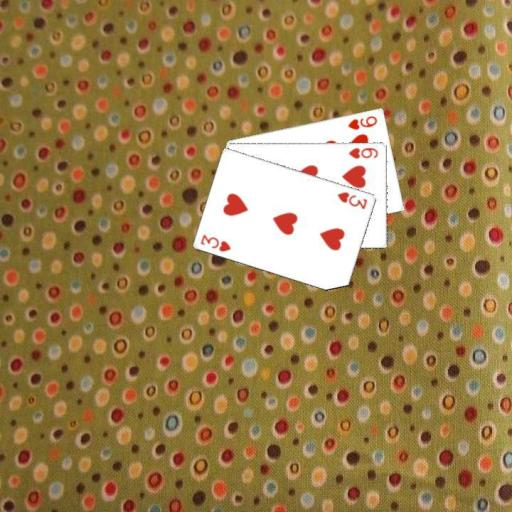3H: (334, 189, 369, 211), (198, 231, 233, 253)
6H: (346, 145, 380, 160)
9H: (345, 112, 379, 131)
